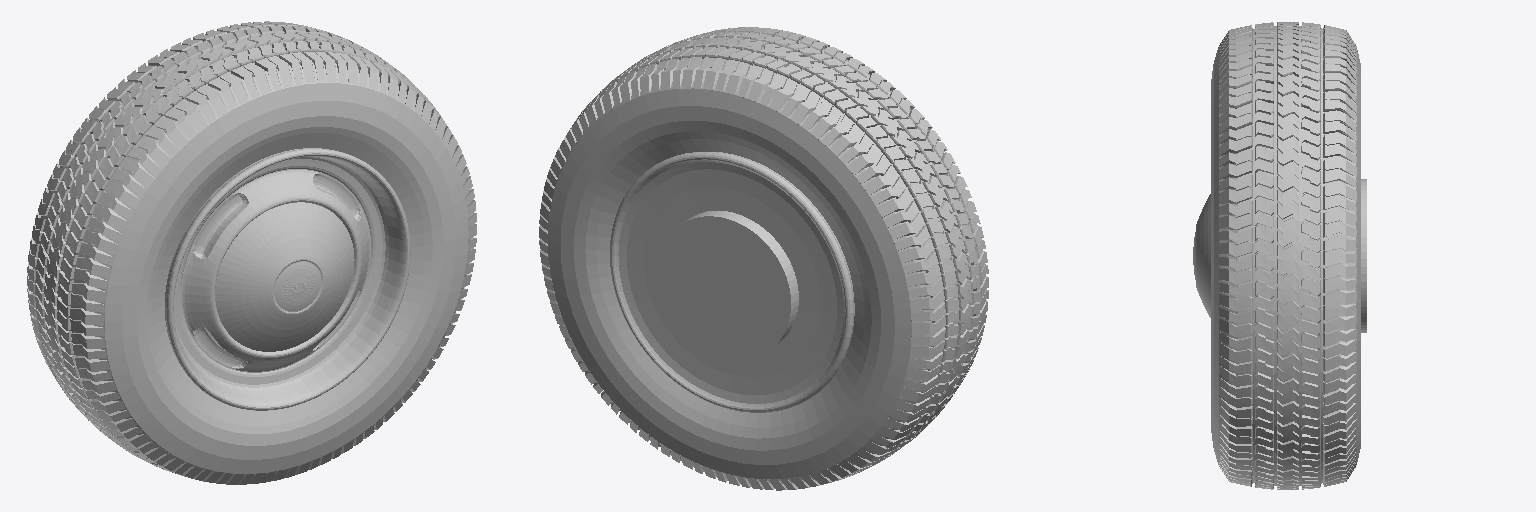
File: obj_wheels_three.obj
The picture shows the model from 3 angles: view 1: azimuth 30°, elevation 25°; view 2: azimuth 150°, elevation 25°; view 3: azimuth 270°, elevation 25°; orthographic projection.
Visible parts, largest first — view 1: Плоскость_Плоскость.001; view 2: Плоскость_Плоскость.001; view 3: Плоскость_Плоскость.001.
Boxes of the visible parts, x1=… form: Плоскость_Плоскость.001: x1=27, y1=21, x2=476, y2=484; Плоскость_Плоскость.001: x1=539, y1=27, x2=988, y2=490; Плоскость_Плоскость.001: x1=1193, y1=22, x2=1366, y2=489.
Size of the model in its own units: 3 by 3 by 1.11.